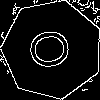O: (27, 24, 81, 72)
